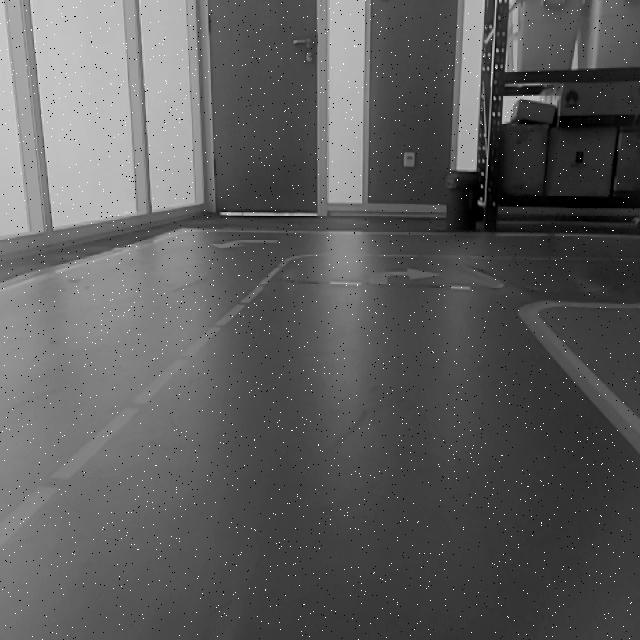left_lane: (0, 260, 288, 550)
right_lane: (516, 308, 640, 455)
